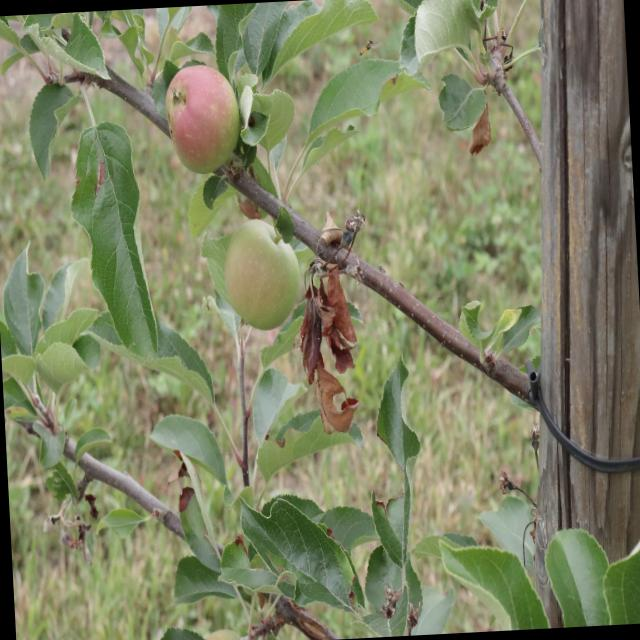-FireBlight-: (302, 216, 366, 442)
